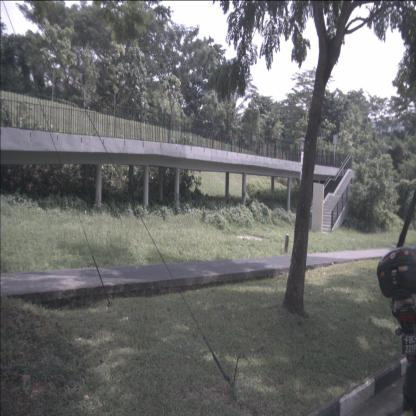vehicle-motorcycle: (376, 246, 416, 416)
